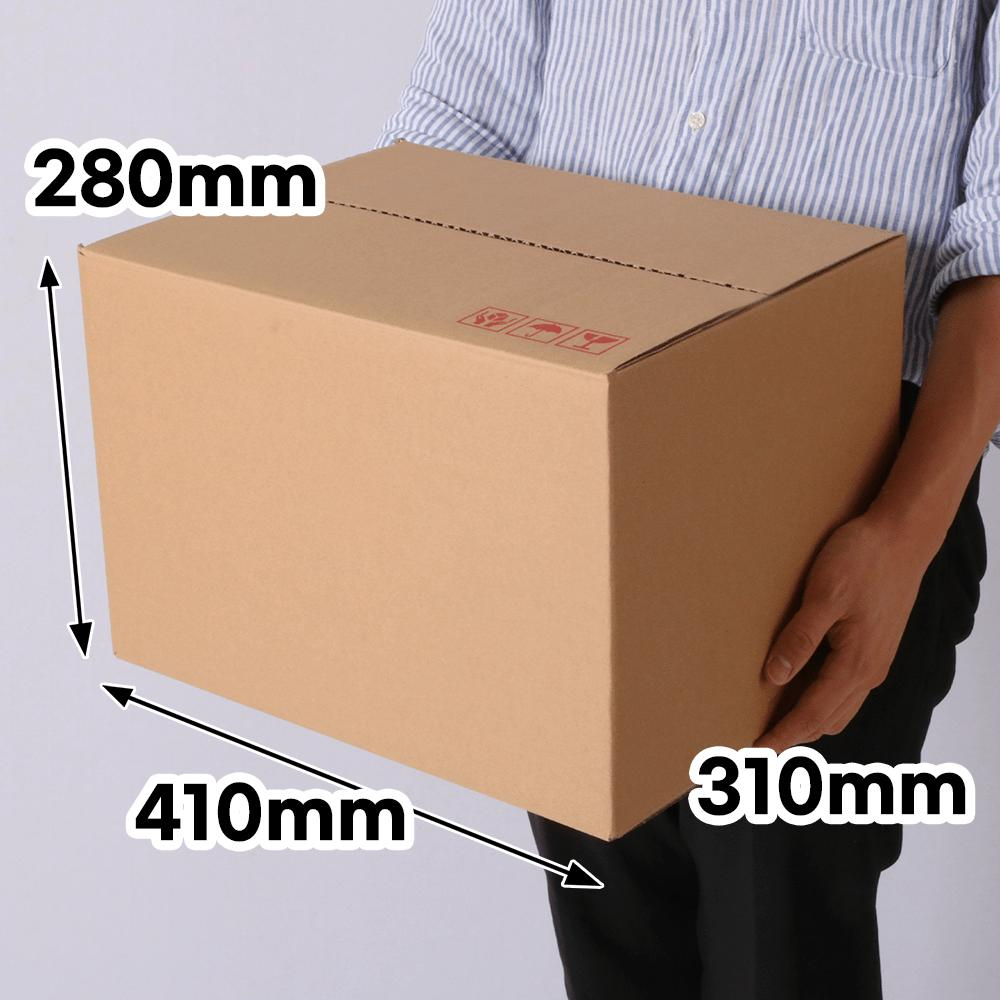box: (76, 144, 906, 844)
